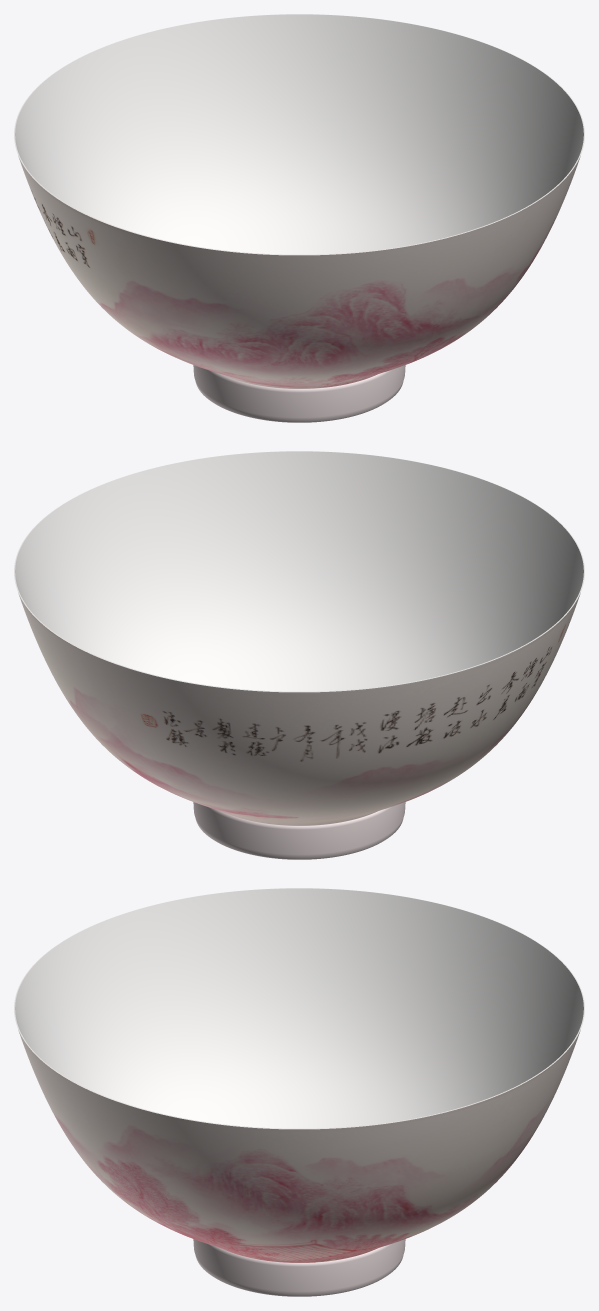
The model's file is hero-bowl.glb.
3 views of the same model, one above another, from view 1: azimuth 30°, elevation 25°; view 2: azimuth 150°, elevation 25°; view 3: azimuth 270°, elevation 25° (orthographic).
Visible parts, largest first — view 1: thin-porcelain-bowl; view 2: thin-porcelain-bowl; view 3: thin-porcelain-bowl.
Part boxes in pixels (x1,y1,x2,y2): thin-porcelain-bowl: [14, 14, 584, 422]; thin-porcelain-bowl: [14, 451, 584, 859]; thin-porcelain-bowl: [14, 888, 584, 1296].
Bounding box in the file's own units: 0.2 × 0.0947 × 0.2.
Materials: 4 (1 with a texture image).
